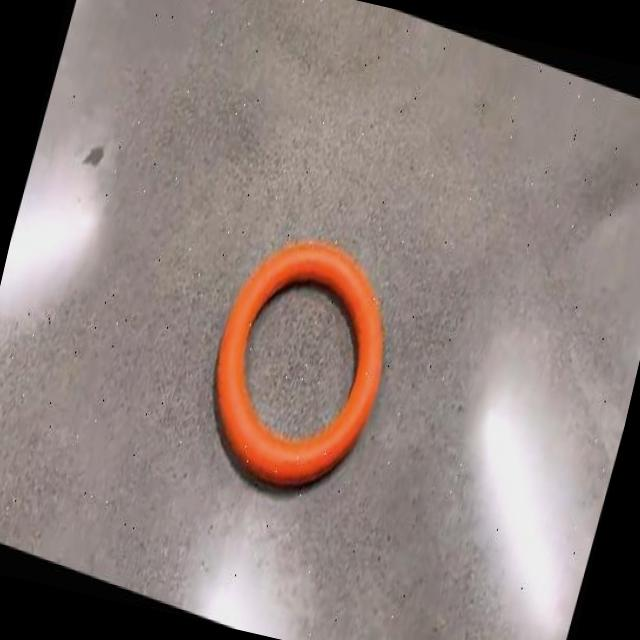note: (215, 240, 382, 483)
